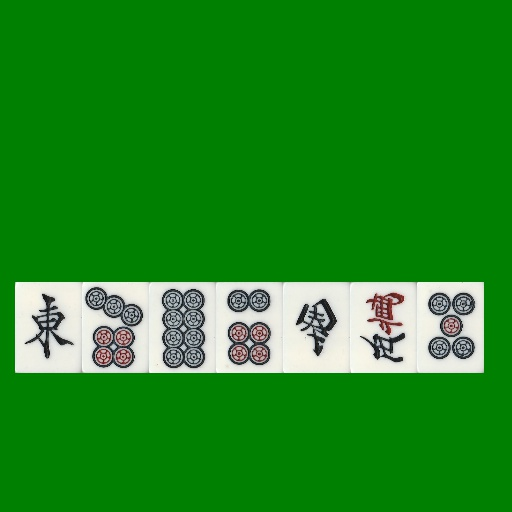5m: (350, 282, 417, 373)
5p: (417, 282, 484, 373)
6p: (216, 282, 283, 373)
7p: (82, 282, 149, 373)
8p: (149, 282, 216, 373)
east: (15, 282, 82, 373)
south: (283, 282, 350, 373)
